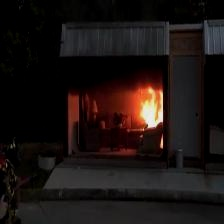fire: (135, 76, 169, 130)
